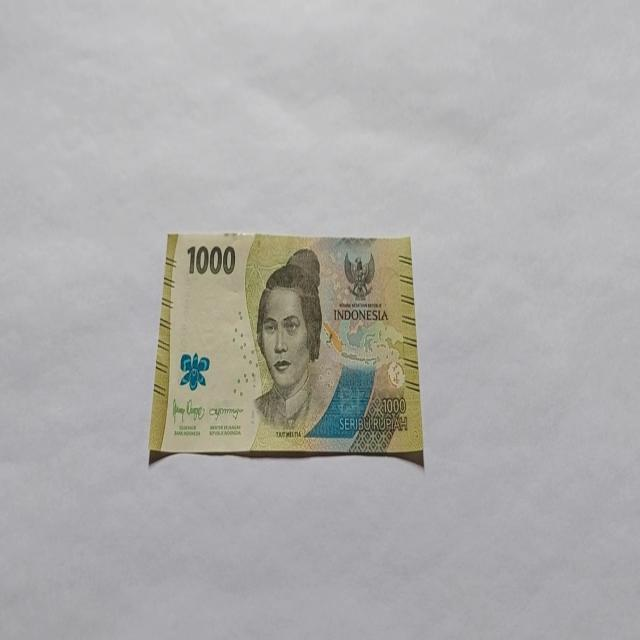seribu rupiah kertas: (148, 230, 424, 467)
